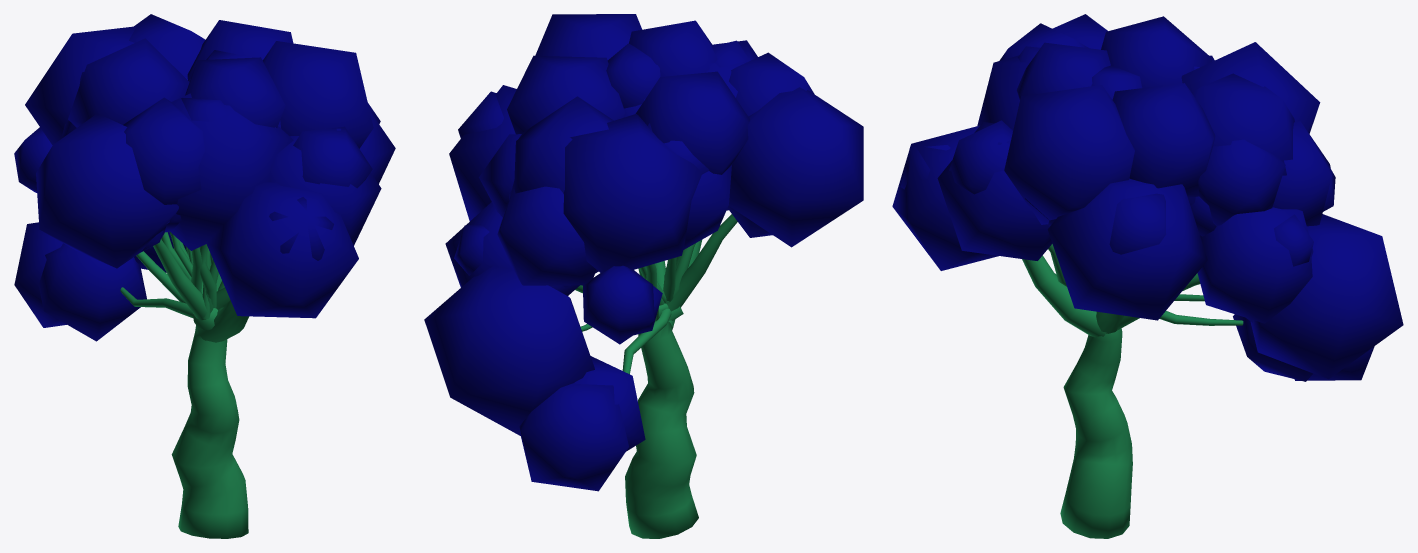
File: AronTree.fbx
3 views of the same model, side by side, from view 1: azimuth 30°, elevation 25°; view 2: azimuth 150°, elevation 25°; view 3: azimuth 270°, elevation 25° (orthographic). The views are drawn at different scales.
Visible parts, largest first — view 1: merge1; view 2: merge1; view 3: merge1.
Boxes of the visible parts, box(x1,y1,x2,y2) form: merge1: box(14, 14, 395, 538); merge1: box(424, 14, 863, 538); merge1: box(892, 14, 1403, 538).
Bounding box in the file's own units: 18.11 × 22.54 × 21.75.
